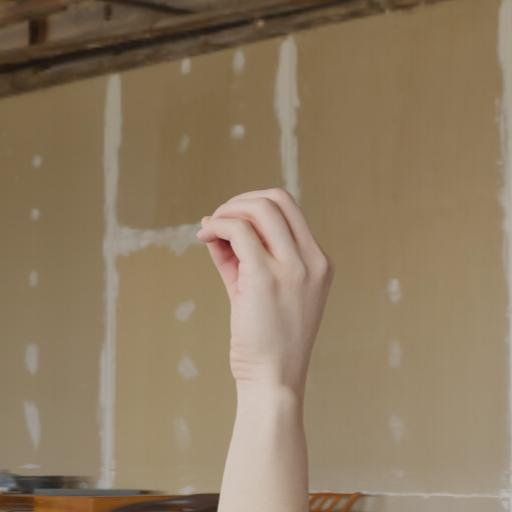O: (194, 179, 341, 400)
